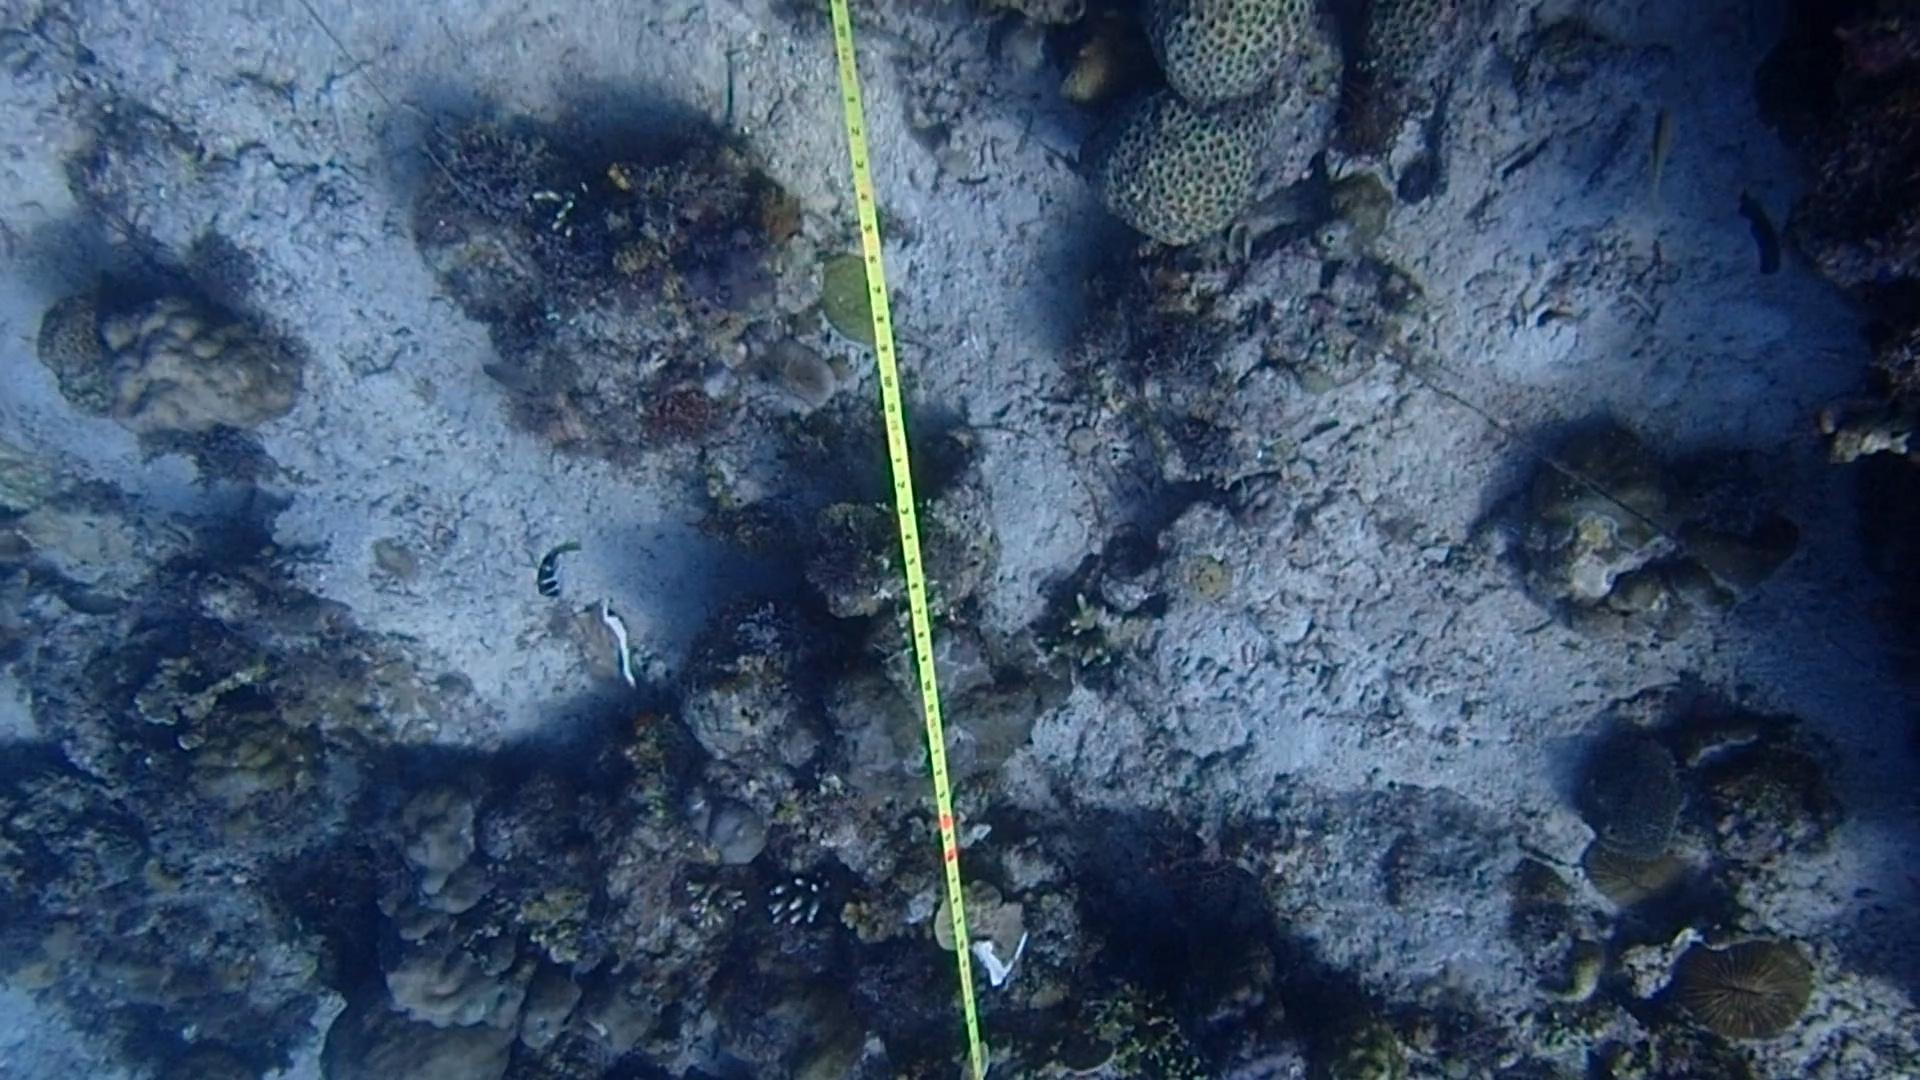Striped Fish: (526, 543, 597, 607)
